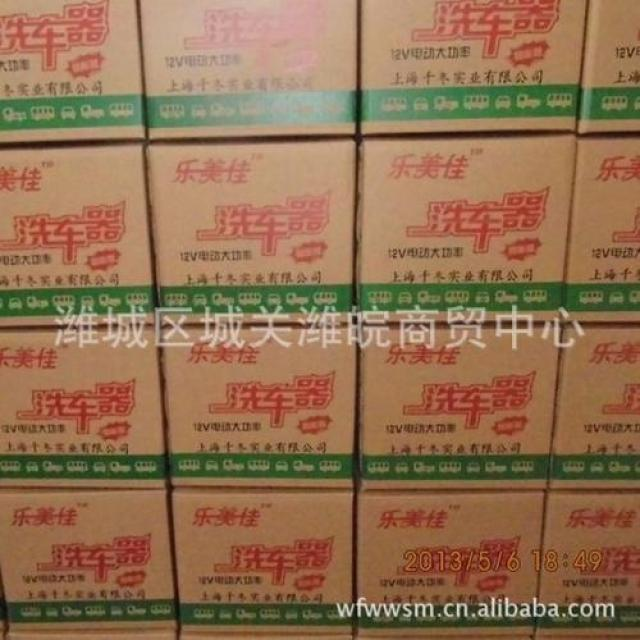box: (354, 134, 580, 325), (152, 137, 358, 324), (351, 320, 562, 489), (158, 320, 356, 489), (358, 1, 587, 135), (138, 2, 359, 138), (0, 141, 157, 326), (353, 488, 545, 633), (0, 320, 167, 486), (168, 487, 354, 633), (0, 486, 179, 630), (0, 1, 150, 141), (533, 489, 639, 636), (549, 323, 639, 490), (562, 135, 639, 324), (575, 1, 639, 134), (7, 627, 180, 638), (353, 630, 538, 638), (176, 630, 356, 638)
